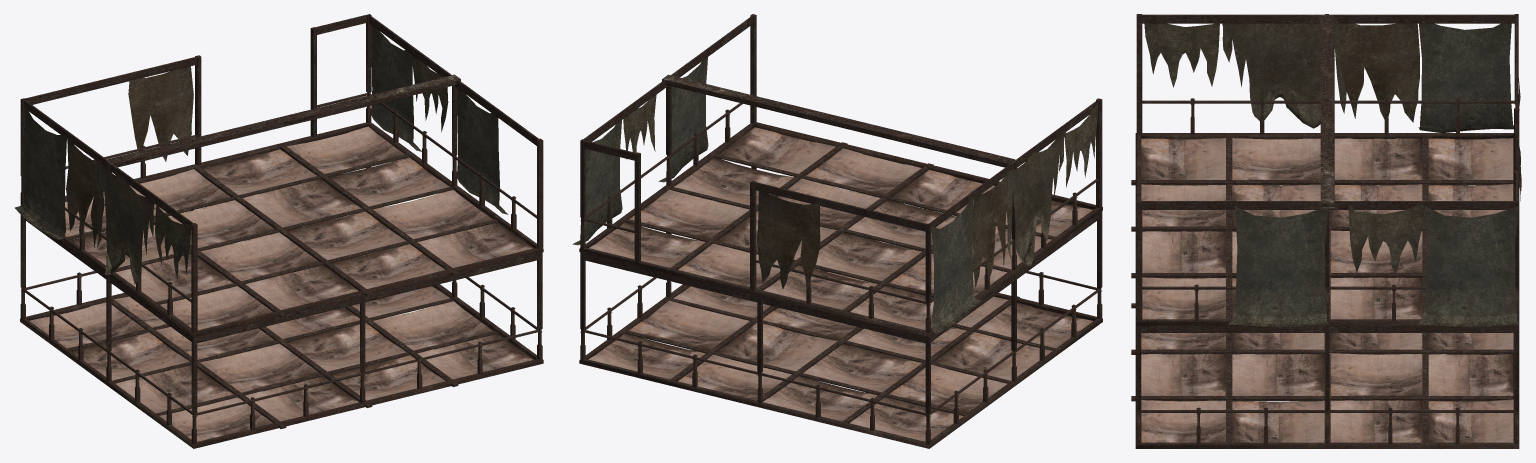
File: CentreAreaStructure.FBX
3 renders of one model, left to right at view 1: azimuth 30°, elevation 25°; view 2: azimuth 150°, elevation 25°; view 3: azimuth 270°, elevation 25°, orthographic. The views are drawn at different scales.
Parts seen in each view (by area): view 1: ~; view 2: ~; view 3: ~.
Boxes of the visible parts, <box> form: ~: <box>14,14,543,448</box>; ~: <box>572,14,1102,448</box>; ~: <box>1131,14,1521,448</box>.
Bounding box in the file's own units: 1114 × 666 × 920.
1 material, 1 textured.
